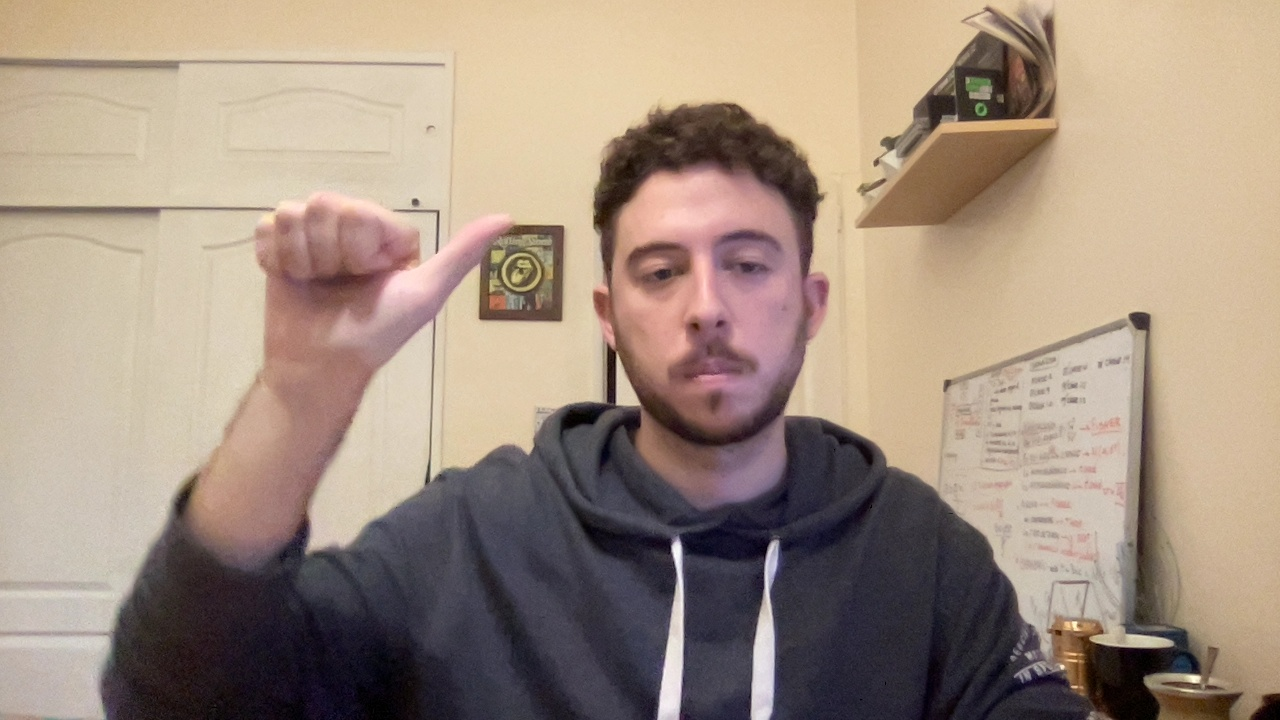pulgar: (226, 176, 538, 405)
